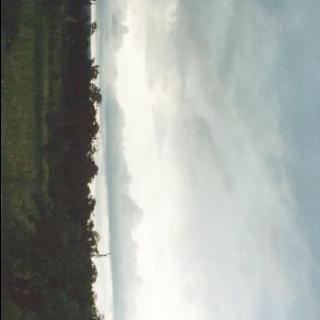Stratocumulus: (103, 0, 320, 320)
